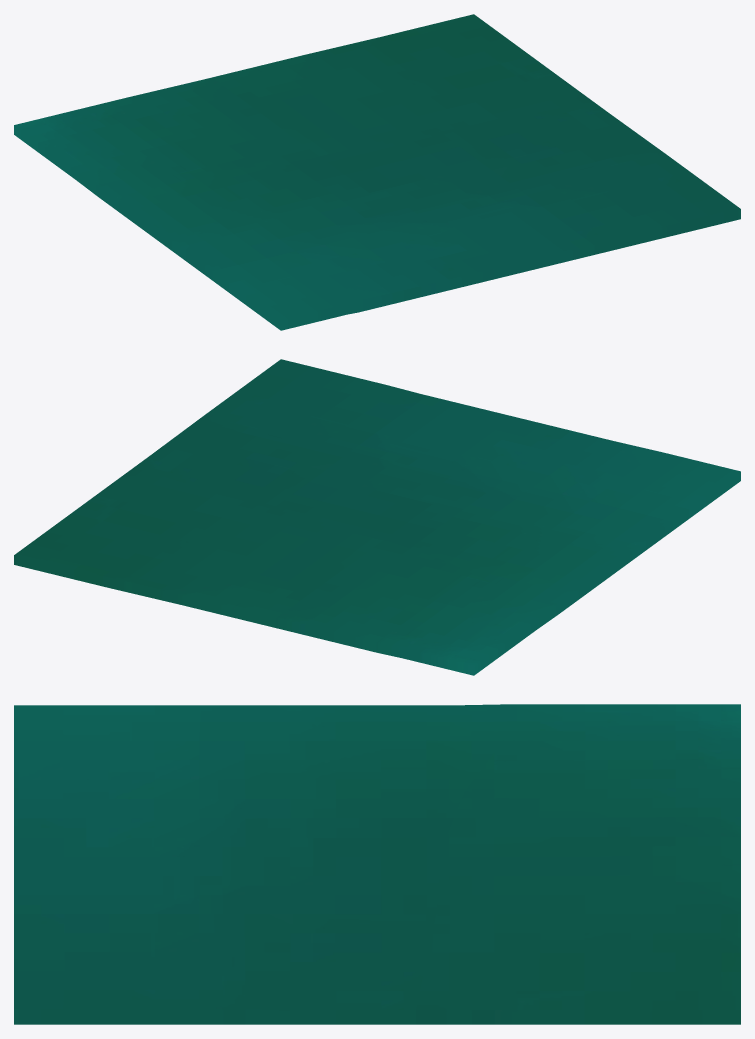
Rendered from z17-20944-50645-h0-yup-uvflip-v3-world.glb.
The picture shows the model from 3 angles, top to bottom: view 1: azimuth 30°, elevation 25°; view 2: azimuth 150°, elevation 25°; view 3: azimuth 270°, elevation 25°; orthographic projection. The views are drawn at different scales.
Size of the model in its own units: 241 by 5.44 by 243.
Materials: 1 (1 with a texture image).
